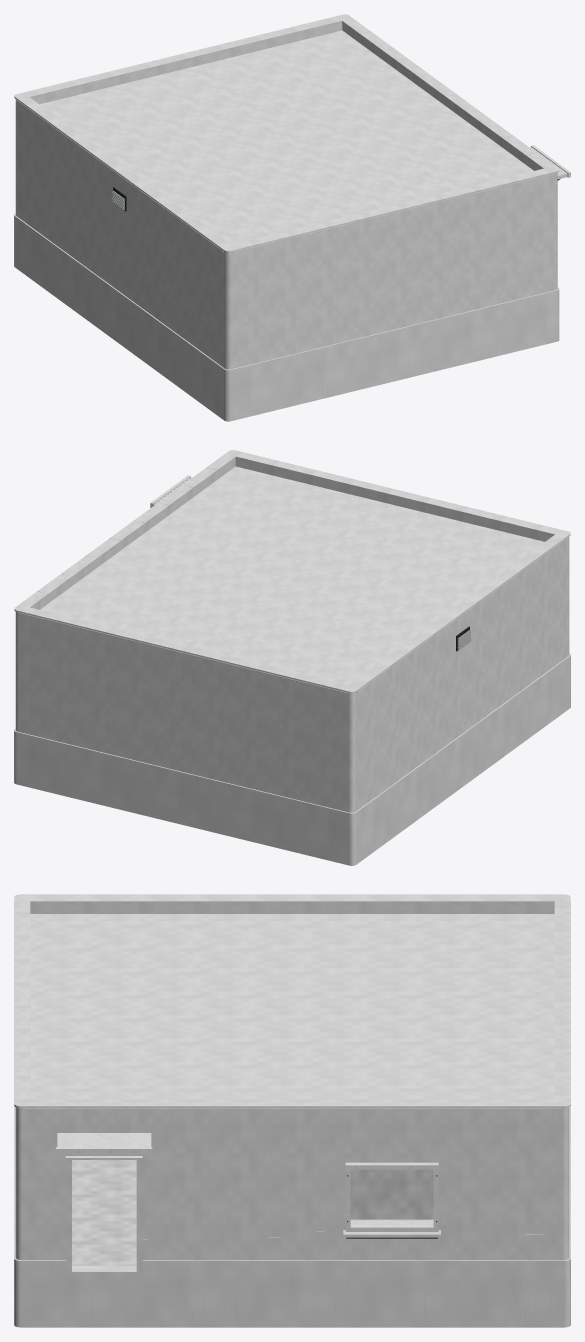
3 views of the same model, one above another, from view 1: azimuth 30°, elevation 25°; view 2: azimuth 150°, elevation 25°; view 3: azimuth 270°, elevation 25° (orthographic). The views are drawn at different scales.
Parts seen in each view (by area): view 1: SM_Homes_H04_Shell, SM_Homes_H04_Roof, SM_Homes_H04_Fixtures; view 2: SM_Homes_H04_Shell, SM_Homes_H04_Roof; view 3: SM_Homes_H04_Roof, SM_Homes_H04_Shell, SM_Homes_H04_Fixtures.
Boxes of the visible parts, <box> form: SM_Homes_H04_Shell: <box>14,108,559,421</box>; SM_Homes_H04_Roof: <box>14,14,558,261</box>; SM_Homes_H04_Fixtures: <box>112,145,570,211</box>; SM_Homes_H04_Shell: <box>14,545,570,865</box>; SM_Homes_H04_Roof: <box>14,450,570,702</box>; SM_Homes_H04_Roof: <box>14,894,570,1120</box>; SM_Homes_H04_Shell: <box>14,1106,570,1327</box>; SM_Homes_H04_Fixtures: <box>37,1133,543,1273</box>.
Size of the model in its own units: 9.81 by 4.41 by 10.06.
Materials: 9 (7 with a texture image).
